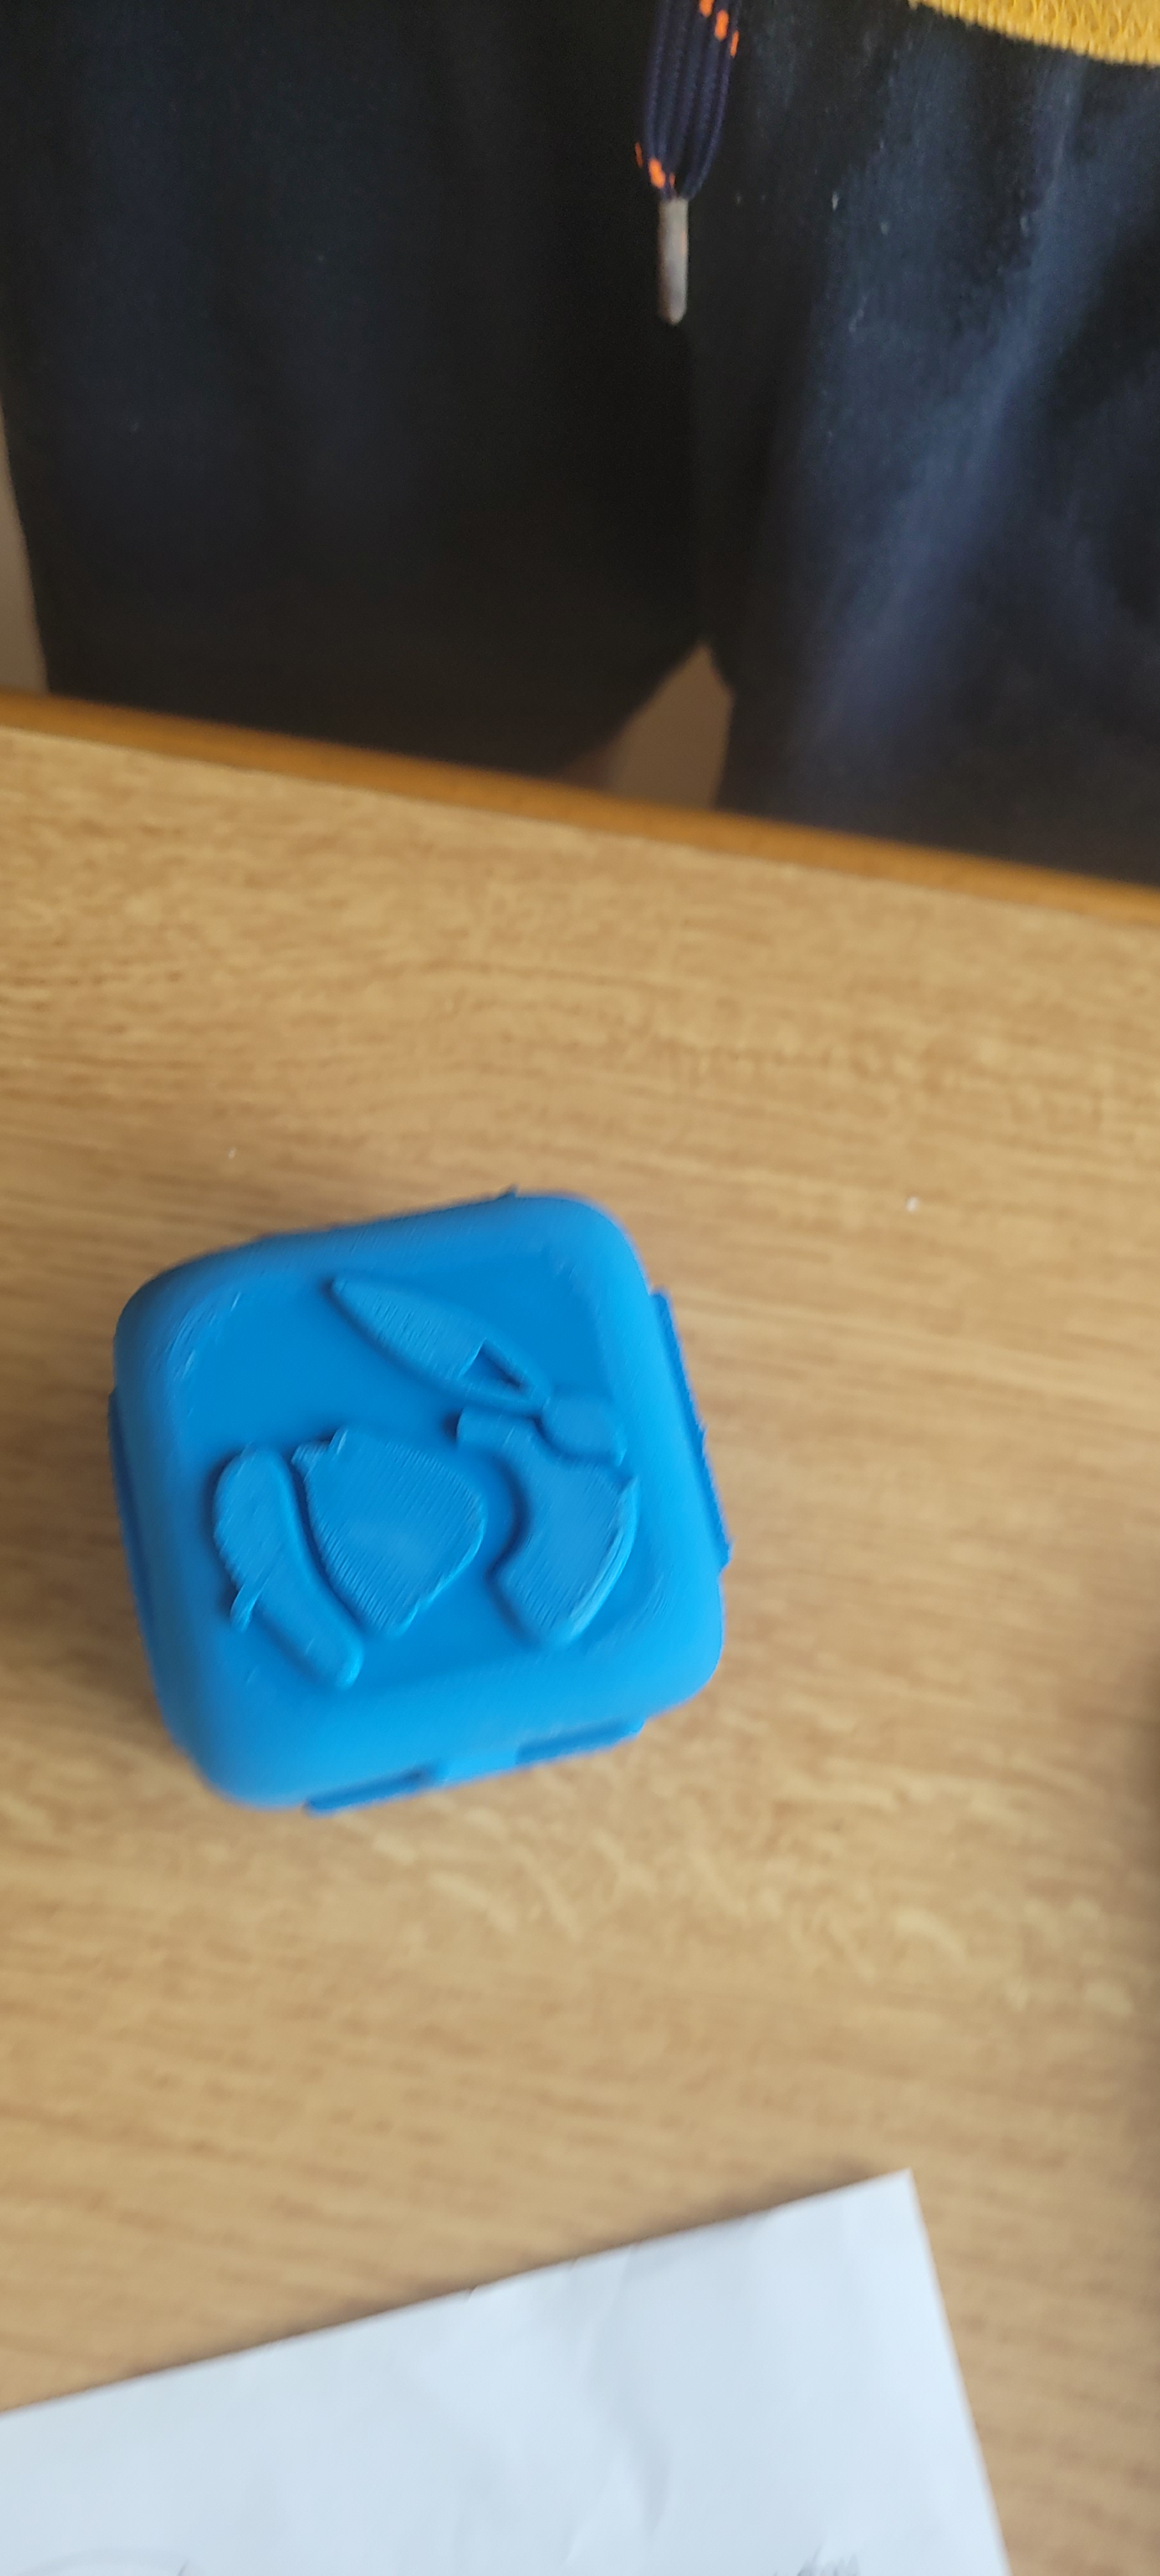Artist_Info: (183, 1112, 640, 1846)
